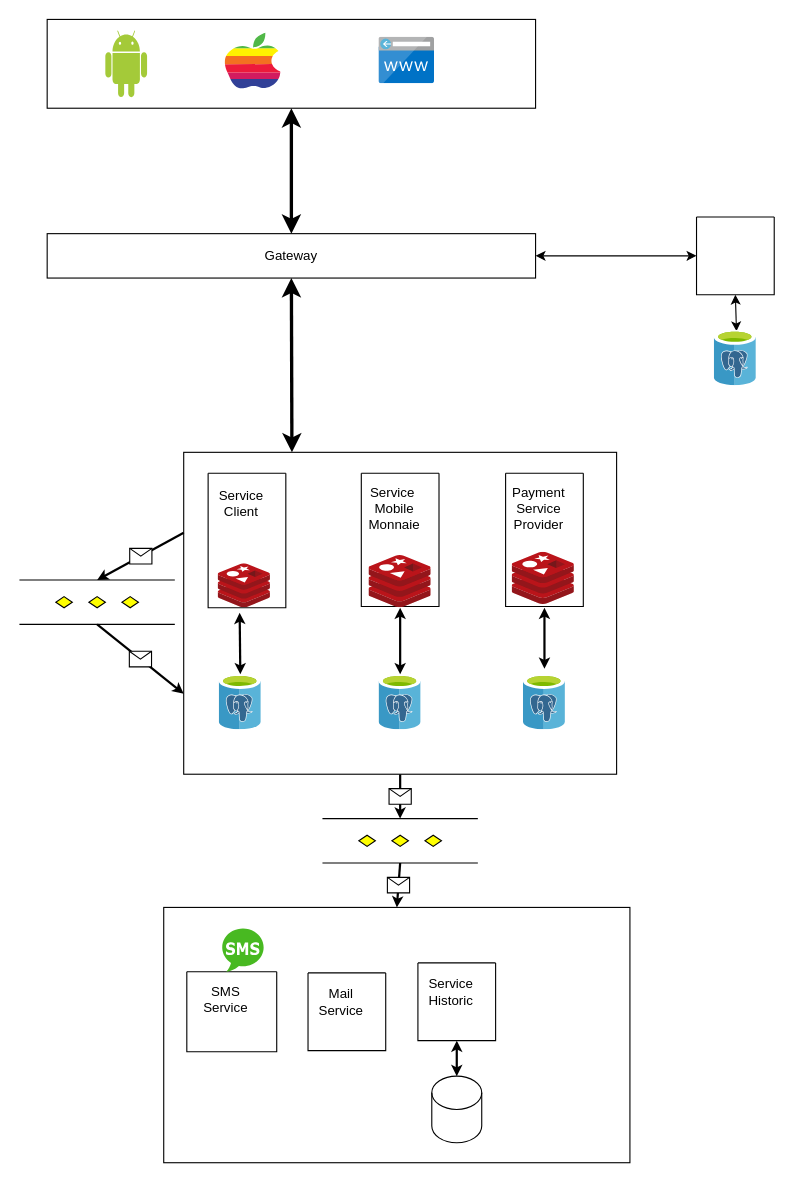
The diagram is 794 pixels wide and 1182 high, and some of its shapes have lost their labels. Each missing label, with the centre of its shape:
"Brique Securité" goes at pixel 734 255.
"MongoDb" goes at pixel 456 1109.
